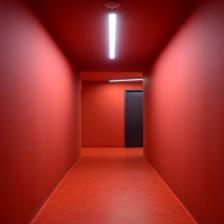red: (144, 0, 224, 224), (0, 0, 80, 224), (31, 148, 197, 224), (81, 81, 142, 147)
